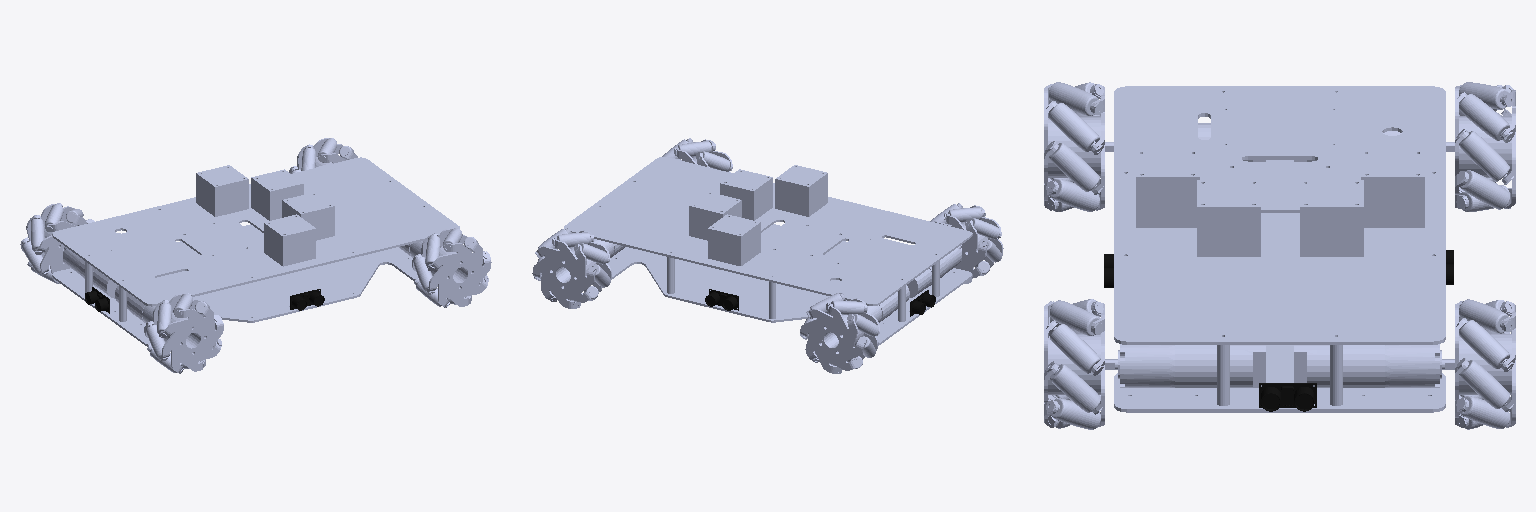
The robot description file, URDF, robot "robot4w":
<?xml version="1.0" encoding="utf-8"?>
<!-- This URDF was automatically created by SolidWorks to URDF Exporter! Originally created by Stephen Brawner (brawner@gmail.com) 
     Commit Version: 1.6.0-4-g7f85cfe  Build Version: 1.6.7995.38578
     For more information, please see http://wiki.ros.org/sw_urdf_exporter -->
<robot
  name="robot4w">
  <link
    name="base_link">
    <inertial>
      <origin
        xyz="0.0078795 0.00077459 0.041095"
        rpy="0 0 0" />
      <mass
        value="3" />
      <inertia
        ixx="0.0041187"
        ixy="5.5823E-06"
        ixz="3.2535E-15"
        iyy="0.012702"
        iyz="-1.2196E-18"
        izz="0.016603" />
    </inertial>
    <visual>
      <origin
        xyz="0 0 0"
        rpy="0 0 0" />
      <geometry>
        <mesh
          filename="package://robot4w/meshes/base_link.STL" />
      </geometry>
      <material
        name="">
        <color
          rgba="0.79216 0.81961 0.93333 1" />
      </material>
    </visual>
    <collision>
      <origin
        xyz="0 0 0"
        rpy="0 0 0" />
      <geometry>
        <mesh
          filename="package://robot4w/meshes/base_link.STL" />
      </geometry>
    </collision>
  </link>
  <link
    name="rodakiribwh_Link">
    <inertial>
      <origin
        xyz="1.6966E-08 -0.023829 -1.0182E-07"
        rpy="0 0 0" />
      <mass
        value="0.5" />
      <inertia
        ixx="4.6952E-05"
        ixy="-1.6211E-18"
        ixz="-2.0117E-17"
        iyy="6.4174E-05"
        iyz="9.0708E-18"
        izz="4.6952E-05" />
    </inertial>
    <visual>
      <origin
        xyz="0 0 0"
        rpy="0 0 0" />
      <geometry>
        <mesh
          filename="package://robot4w/meshes/rodakiribwh_Link.STL" />
      </geometry>
      <material
        name="">
        <color
          rgba="0.79216 0.81961 0.93333 1" />
      </material>
    </visual>
    <collision>
      <origin
        xyz="0 0 0"
        rpy="0 0 0" />
      <geometry>
        <mesh
          filename="package://robot4w/meshes/rodakiribwh_Link.STL" />
      </geometry>
    </collision>
  </link>
  <joint
    name="rodabwhkiri"
    type="continuous">
    <origin
      xyz="-0.2 0.18325 0.022"
      rpy="0 -0.084622 0" />
    <parent
      link="base_link" />
    <child
      link="rodakiribwh_Link" />
    <axis
      xyz="0 -1 0" />
  </joint>
  <link
    name="rodakiriats_Link">
    <inertial>
      <origin
        xyz="7.5112E-08 -0.023829 -7.08E-08"
        rpy="0 0 0" />
      <mass
        value="0.5" />
      <inertia
        ixx="4.6952E-05"
        ixy="-6.7926E-18"
        ixz="-8.8395E-18"
        iyy="6.4174E-05"
        iyz="6.2199E-18"
        izz="4.6952E-05" />
    </inertial>
    <visual>
      <origin
        xyz="0 0 0"
        rpy="0 0 0" />
      <geometry>
        <mesh
          filename="package://robot4w/meshes/rodakiriats_Link.STL" />
      </geometry>
      <material
        name="">
        <color
          rgba="0.79216 0.81961 0.93333 1" />
      </material>
    </visual>
    <collision>
      <origin
        xyz="0 0 0"
        rpy="0 0 0" />
      <geometry>
        <mesh
          filename="package://robot4w/meshes/rodakiriats_Link.STL" />
      </geometry>
    </collision>
  </link>
  <joint
    name="rodaatskir"
    type="continuous">
    <origin
      xyz="0.2 0.18325 0.022"
      rpy="0 0 0" />
    <parent
      link="base_link" />
    <child
      link="rodakiriats_Link" />
    <axis
      xyz="0 -1 0" />
  </joint>
  <link
    name="rodakananatas_Link">
    <inertial>
      <origin
        xyz="-7.08E-08 0.023829 7.5112E-08"
        rpy="0 0 0" />
      <mass
        value="0.5" />
      <inertia
        ixx="4.6952E-05"
        ixy="-6.2062E-18"
        ixz="-8.8411E-18"
        iyy="6.4174E-05"
        iyz="6.7654E-18"
        izz="4.6952E-05" />
    </inertial>
    <visual>
      <origin
        xyz="0 0 0"
        rpy="0 0 0" />
      <geometry>
        <mesh
          filename="package://robot4w/meshes/rodakananatas_Link.STL" />
      </geometry>
      <material
        name="">
        <color
          rgba="0.79216 0.81961 0.93333 1" />
      </material>
    </visual>
    <collision>
      <origin
        xyz="0 0 0"
        rpy="0 0 0" />
      <geometry>
        <mesh
          filename="package://robot4w/meshes/rodakananatas_Link.STL" />
      </geometry>
    </collision>
  </link>
  <joint
    name="rodaataskanan"
    type="continuous">
    <origin
      xyz="0.2 -0.18325 0.022"
      rpy="0 0 0" />
    <parent
      link="base_link" />
    <child
      link="rodakananatas_Link" />
    <axis
      xyz="0 1 0" />
  </joint>
  <link
    name="rodakananbwh_Link">
    <inertial>
      <origin
        xyz="-7.08E-08 0.023421 -7.5112E-08"
        rpy="0 0 0" />
      <mass
        value="0.5" />
      <inertia
        ixx="4.6952E-05"
        ixy="6.2388E-18"
        ixz="8.8426E-18"
        iyy="6.4174E-05"
        iyz="6.7595E-18"
        izz="4.6952E-05" />
    </inertial>
    <visual>
      <origin
        xyz="0 0 0"
        rpy="0 0 0" />
      <geometry>
        <mesh
          filename="package://robot4w/meshes/rodakananbwh_Link.STL" />
      </geometry>
      <material
        name="">
        <color
          rgba="0.79216 0.81961 0.93333 1" />
      </material>
    </visual>
    <collision>
      <origin
        xyz="0 0 0"
        rpy="0 0 0" />
      <geometry>
        <mesh
          filename="package://robot4w/meshes/rodakananbwh_Link.STL" />
      </geometry>
    </collision>
  </link>
  <joint
    name="rodabwhkanan"
    type="continuous">
    <origin
      xyz="-0.2 -0.18325 0.022"
      rpy="0 0 0" />
    <parent
      link="base_link" />
    <child
      link="rodakananbwh_Link" />
    <axis
      xyz="0 1 0" />
  </joint>
  <link
    name="sensordepan_Link">
    <inertial>
      <origin
        xyz="0.0036835 3.0075E-05 0.00041581"
        rpy="0 0 0" />
      <mass
        value="0.002" />
      <inertia
        ixx="1.1247E-06"
        ixy="2.5349E-13"
        ixz="-2.9986E-09"
        iyy="2.0431E-07"
        iyz="1.9203E-14"
        izz="1.0828E-06" />
    </inertial>
    <visual>
      <origin
        xyz="0 0 0"
        rpy="0 0 0" />
      <geometry>
        <mesh
          filename="package://robot4w/meshes/sensordepan_Link.STL" />
      </geometry>
      <material
        name="">
        <color
          rgba="0.10196 0.10196 0.10196 1" />
      </material>
    </visual>
    <collision>
      <origin
        xyz="0 0 0"
        rpy="0 0 0" />
      <geometry>
        <mesh
          filename="package://robot4w/meshes/sensordepan_Link.STL" />
      </geometry>
    </collision>
  </link>
  <joint
    name="depans"
    type="fixed">
    <origin
      xyz="0.23209 0.0059934 0.009585"
      rpy="0 0 0" />
    <parent
      link="base_link" />
    <child
      link="sensordepan_Link" />
    <axis
      xyz="0 0 0" />
  </joint>
  <link
    name="sensorkiri_Link">
    <inertial>
      <origin
        xyz="0.0036835 3.0075E-05 0.00041581"
        rpy="0 0 0" />
      <mass
        value="0.002" />
      <inertia
        ixx="1.1247E-06"
        ixy="2.5349E-13"
        ixz="-2.9986E-09"
        iyy="2.0431E-07"
        iyz="1.9203E-14"
        izz="1.0828E-06" />
    </inertial>
    <visual>
      <origin
        xyz="0 0 0"
        rpy="0 0 0" />
      <geometry>
        <mesh
          filename="package://robot4w/meshes/sensorkiri_Link.STL" />
      </geometry>
      <material
        name="">
        <color
          rgba="0.10196 0.10196 0.10196 1" />
      </material>
    </visual>
    <collision>
      <origin
        xyz="0 0 0"
        rpy="0 0 0" />
      <geometry>
        <mesh
          filename="package://robot4w/meshes/sensorkiri_Link.STL" />
      </geometry>
    </collision>
  </link>
  <joint
    name="sensork"
    type="fixed">
    <origin
      xyz="-0.0048711 0.1233 0.009585"
      rpy="0 0 1.5708" />
    <parent
      link="base_link" />
    <child
      link="sensorkiri_Link" />
    <axis
      xyz="0 0 0" />
  </joint>
  <link
    name="sensorkanan_Link">
    <inertial>
      <origin
        xyz="0.0036835 3.0075E-05 0.00041581"
        rpy="0 0 0" />
      <mass
        value="0.002" />
      <inertia
        ixx="1.1247E-06"
        ixy="2.5349E-13"
        ixz="-2.9986E-09"
        iyy="2.0431E-07"
        iyz="1.9203E-14"
        izz="1.0828E-06" />
    </inertial>
    <visual>
      <origin
        xyz="0 0 0"
        rpy="0 0 0" />
      <geometry>
        <mesh
          filename="package://robot4w/meshes/sensorkanan_Link.STL" />
      </geometry>
      <material
        name="">
        <color
          rgba="0.10196 0.10196 0.10196 1" />
      </material>
    </visual>
    <collision>
      <origin
        xyz="0 0 0"
        rpy="0 0 0" />
      <geometry>
        <mesh
          filename="package://robot4w/meshes/sensorkanan_Link.STL" />
      </geometry>
    </collision>
  </link>
  <joint
    name="sensork"
    type="fixed">
    <origin
      xyz="0.0019567 -0.12532 0.009585"
      rpy="0 0 -1.5708" />
    <parent
      link="base_link" />
    <child
      link="sensorkanan_Link" />
    <axis
      xyz="0 0 0" />
  </joint>
  <link
    name="sesorbelakng_Link">
    <inertial>
      <origin
        xyz="0.0036835 3.0075E-05 0.00041581"
        rpy="0 0 0" />
      <mass
        value="0.002" />
      <inertia
        ixx="1.1247E-06"
        ixy="2.5349E-13"
        ixz="-2.9986E-09"
        iyy="2.0431E-07"
        iyz="1.9203E-14"
        izz="1.0828E-06" />
    </inertial>
    <visual>
      <origin
        xyz="0 0 0"
        rpy="0 0 0" />
      <geometry>
        <mesh
          filename="package://robot4w/meshes/sesorbelakng_Link.STL" />
      </geometry>
      <material
        name="">
        <color
          rgba="0.10196 0.10196 0.10196 1" />
      </material>
    </visual>
    <collision>
      <origin
        xyz="0 0 0"
        rpy="0 0 0" />
      <geometry>
        <mesh
          filename="package://robot4w/meshes/sesorbelakng_Link.STL" />
      </geometry>
    </collision>
  </link>
  <joint
    name="sbelakang"
    type="fixed">
    <origin
      xyz="-0.22973 0.0056954 0.009585"
      rpy="0 0 -3.1416" />
    <parent
      link="base_link" />
    <child
      link="sesorbelakng_Link" />
    <axis
      xyz="0 0 0" />
  </joint>
</robot>

--- Render facts (derived) ---
The picture shows the robot from 3 angles, left to right: view 1: azimuth 30°, elevation 25°; view 2: azimuth 150°, elevation 25°; view 3: azimuth 270°, elevation 25°; orthographic projection.
Model robot4w with 9 links and 8 joints (4 continuous, 4 fixed), rooted at base_link, posed every joint at zero.
Visible links, largest first — view 1: base_link, rodakananatas_Link, rodakananbwh_Link, rodakiribwh_Link, rodakiriats_Link; view 2: base_link, rodakiribwh_Link, rodakiriats_Link, rodakananbwh_Link, rodakananatas_Link; view 3: base_link, rodakananbwh_Link, rodakiriats_Link, rodakananatas_Link, rodakiribwh_Link, sensordepan_Link.
Link boxes in pixels (bbox=[...]): base_link: bbox=[52, 157, 459, 346]; rodakananatas_Link: bbox=[412, 228, 491, 307]; rodakananbwh_Link: bbox=[144, 293, 223, 373]; rodakiribwh_Link: bbox=[20, 203, 94, 283]; rodakiriats_Link: bbox=[289, 138, 357, 173]; base_link: bbox=[564, 157, 972, 345]; rodakiribwh_Link: bbox=[800, 293, 879, 373]; rodakiriats_Link: bbox=[532, 228, 611, 308]; rodakananbwh_Link: bbox=[930, 203, 1003, 283]; rodakananatas_Link: bbox=[662, 138, 732, 172]; base_link: bbox=[1105, 86, 1454, 412]; rodakananbwh_Link: bbox=[1044, 82, 1104, 211]; rodakiriats_Link: bbox=[1455, 299, 1515, 429]; rodakananatas_Link: bbox=[1044, 299, 1104, 429]; rodakiribwh_Link: bbox=[1455, 82, 1515, 211]; sensordepan_Link: bbox=[1259, 383, 1316, 411].
Bounding box of the posed robot: 0.5002 × 0.3665 × 0.1296 m (x, y, z).
9 mesh visuals loaded from 9 distinct referenced files (9 binary STL).
